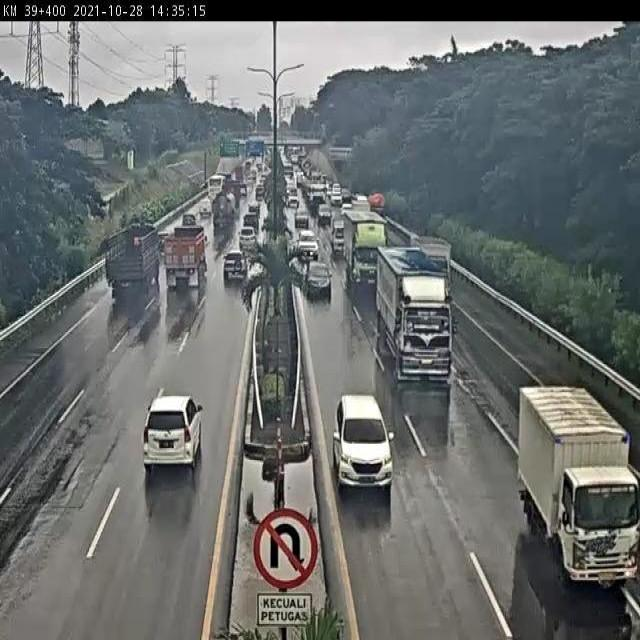big bus: (204, 174, 221, 202), (287, 184, 300, 209)
big truck: (382, 239, 446, 365), (97, 219, 164, 317), (343, 212, 397, 292), (167, 226, 202, 294), (213, 194, 236, 234)
car: (134, 382, 221, 506), (335, 387, 385, 465), (306, 260, 331, 299), (222, 246, 242, 290), (236, 232, 259, 260), (296, 220, 313, 253), (236, 218, 264, 234), (329, 213, 340, 248), (190, 200, 208, 219), (171, 218, 192, 234), (295, 205, 310, 224), (220, 176, 233, 195), (244, 202, 258, 218), (321, 200, 328, 221)
small truck: (520, 382, 640, 598)
